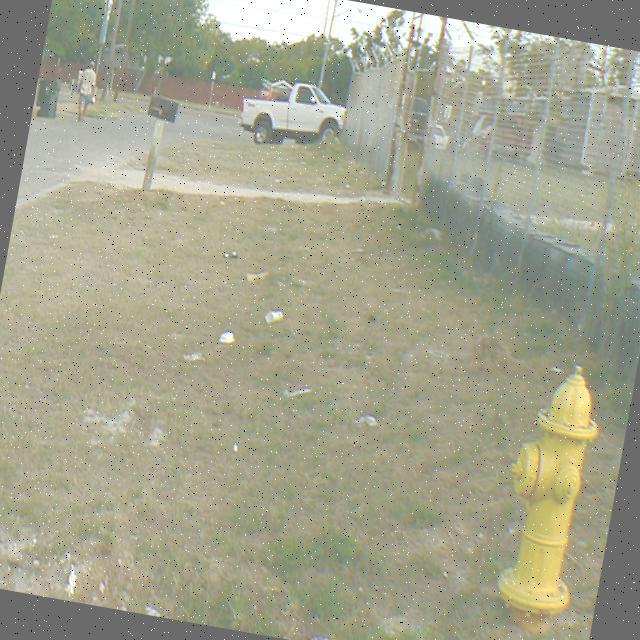fire_hydrant: (482, 353, 608, 637)
